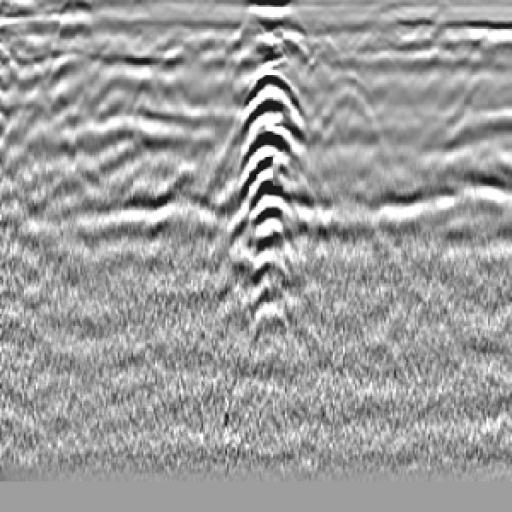metalic: (228, 40, 312, 340)
nonmetalic: (301, 70, 398, 177)
